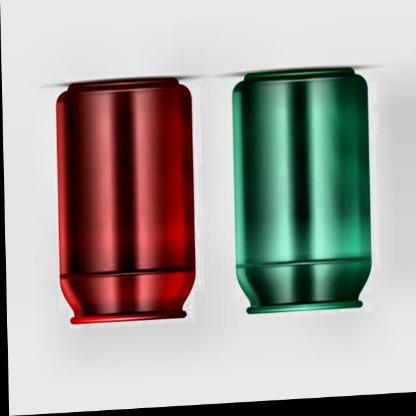Can: (48, 75, 202, 333), (229, 67, 379, 323)
